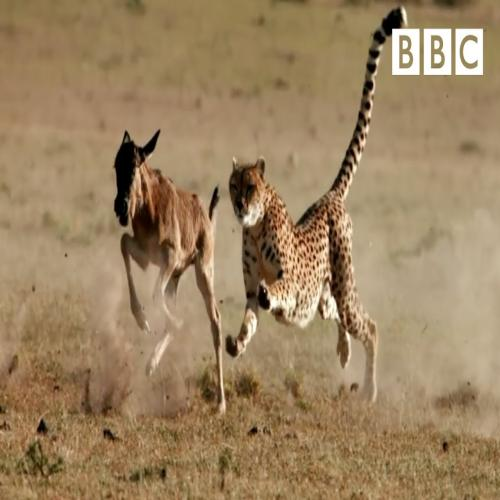cheetah-endangered: (228, 0, 406, 406)
